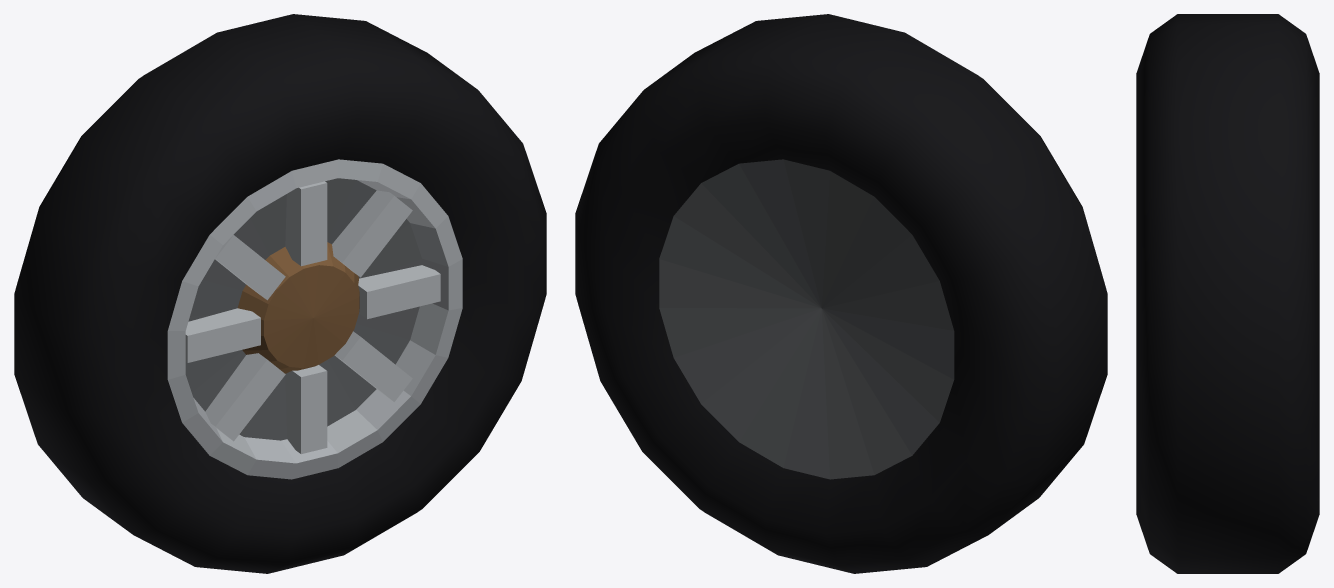
The model's file is wagon_wheel.glb.
3 views of the same model, side by side, from view 1: azimuth 30°, elevation 25°; view 2: azimuth 150°, elevation 25°; view 3: azimuth 270°, elevation 25° (orthographic).
Visible parts, largest first — view 1: Wheel; view 2: Wheel; view 3: Wheel.
Part boxes in pixels (box(x1,y1,x2,y2)): Wheel: box(14, 14, 546, 573); Wheel: box(575, 14, 1107, 573); Wheel: box(1136, 14, 1319, 573).
Size of the model in its own units: 0.74 by 0.74 by 0.245.
